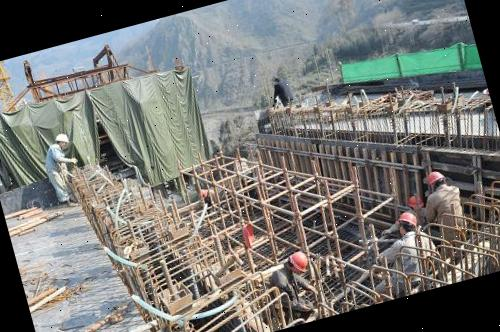helmet: (289, 248, 313, 275), (396, 209, 420, 230), (424, 170, 446, 188), (406, 190, 424, 208)
no_wear: (388, 230, 443, 286), (432, 186, 471, 237), (267, 268, 300, 320)
